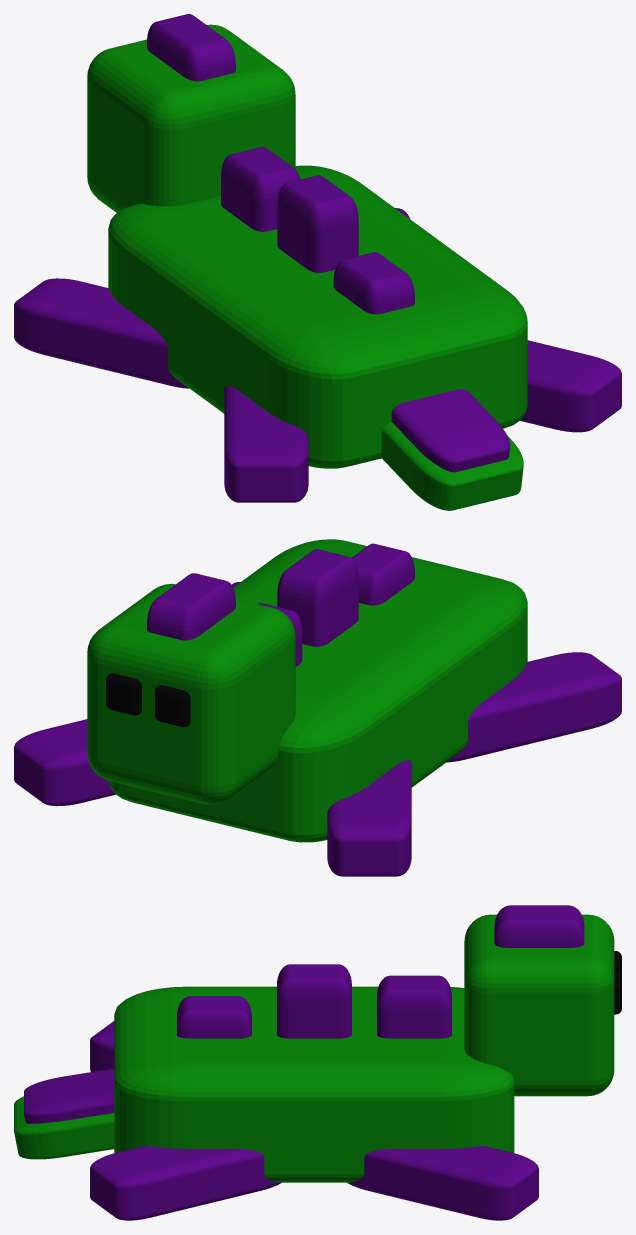
The model's file is Sludgle.glb.
The picture shows the model from 3 angles, top to bottom: view 1: azimuth 30°, elevation 25°; view 2: azimuth 150°, elevation 25°; view 3: azimuth 270°, elevation 25°; orthographic projection. The views are drawn at different scales.
Visible parts, largest first — view 1: Slinker; view 2: Slinker; view 3: Slinker.
Part boxes in pixels (x1,y1,x2,y2): Slinker: (14,14,621,510); Slinker: (14,539,621,876); Slinker: (14,905,621,1220).
Size of the model in its own units: 0.7972 by 0.5091 by 1.22.
